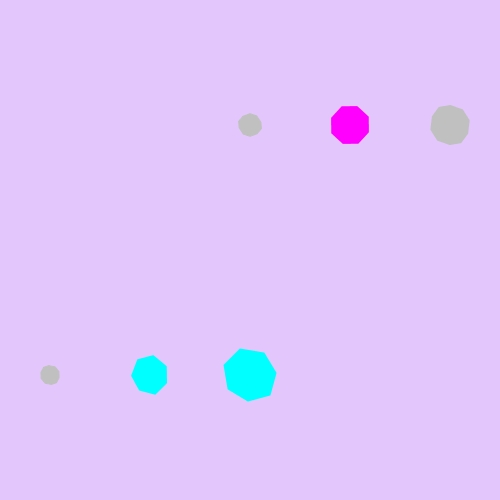decagon: (425, 102, 475, 148), (234, 110, 267, 141), (35, 361, 65, 389)
heptagon: (220, 346, 281, 405), (127, 353, 173, 397)
octagon: (326, 101, 374, 149)
